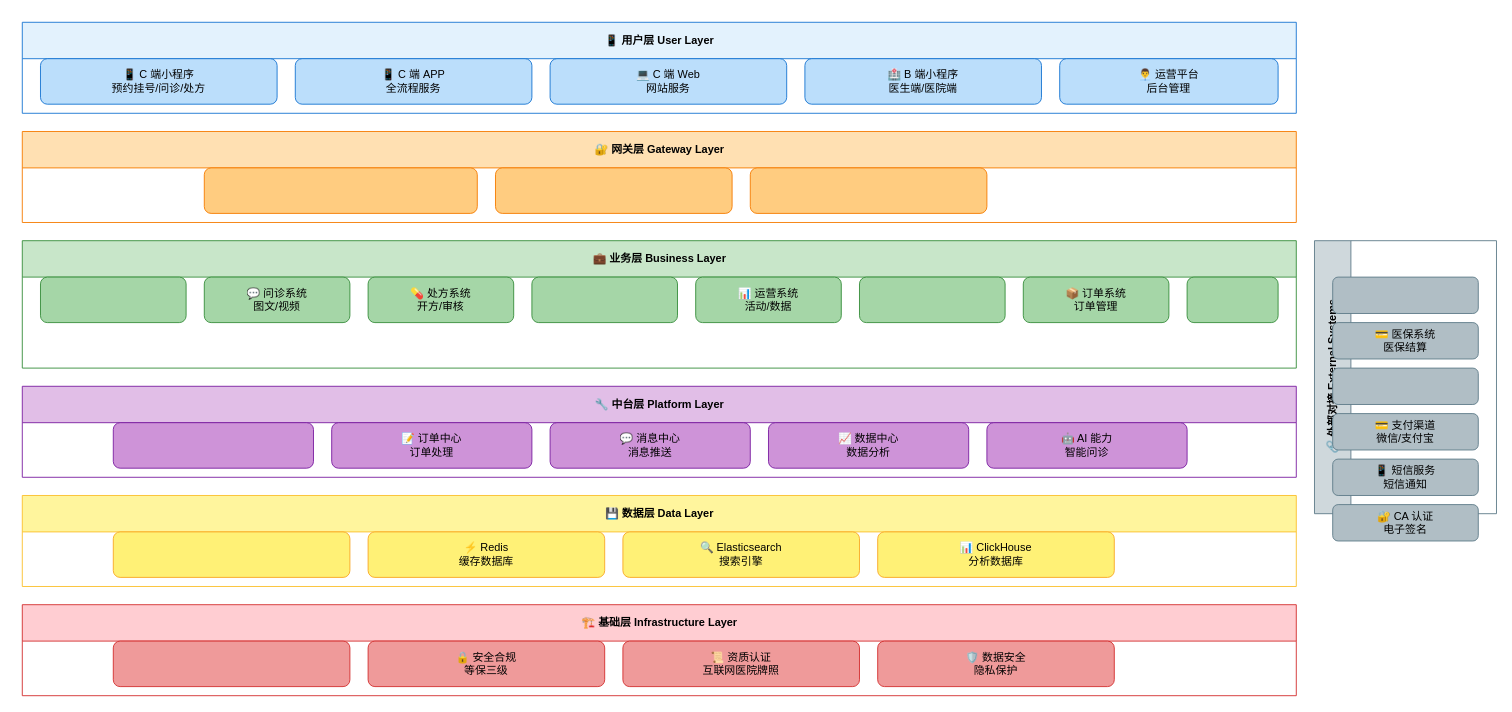
Some shapes in this 1512 by 712 pixel diagram are drawn without their labels. The shapes that lost their labels are listed below. From the top down, each one's centre as x and y in pixels, then its label:
(340,190): 🌐 API Gateway 统一入口
(613,190): ⚖️ 负载均衡 流量分发
(868,190): 🔒 安全认证 权限验证
(113,299): 📋 挂号系统 预约/排班
(604,299): 💰 支付系统 医保/自费
(932,299): 👥 用户系统 注册/登录
(1232,299): 🔔 消息系统 通知/推送
(1405,294): 🏥 医院 HIS 医院系统
(1405,385): 🚚 药品配送 物流配送
(212,445): 👤 用户中心 用户画像
(231,554): 🗄️ MySQL 关系型数据库
(231,663): ☁️ 云服务 阿里云/腾讯云
